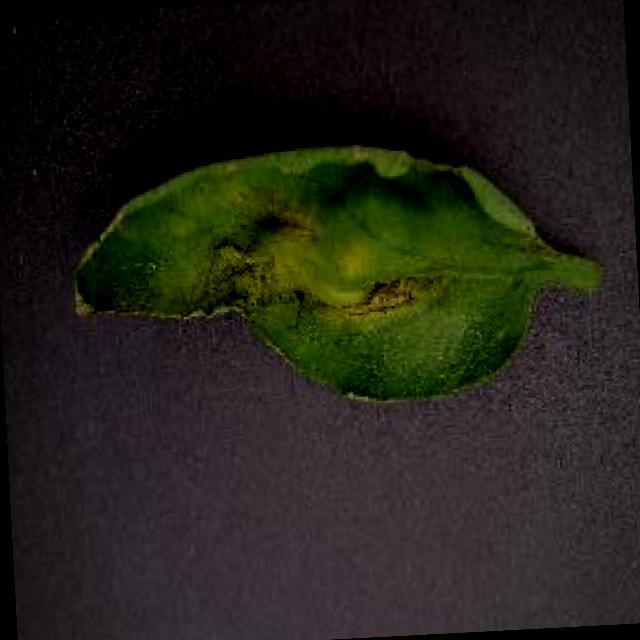leaf blight: (67, 144, 600, 405)
